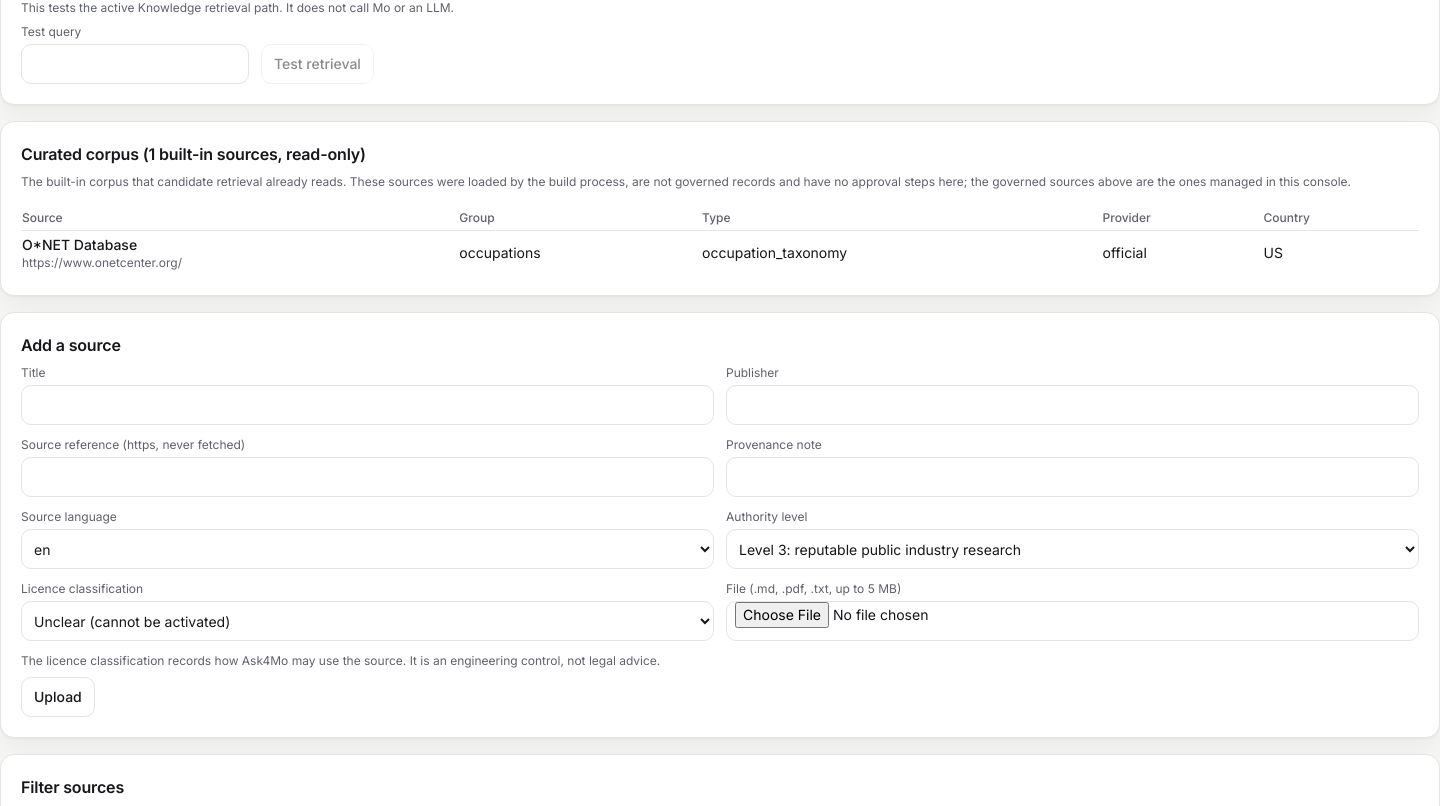
Test: Knowledge list › upload form: labelled fields, file errors associated with the field, no request without a file
(page scrolled)
Type "A source" into the field labelled "Title" at (368, 405), box [21,385,714,425]
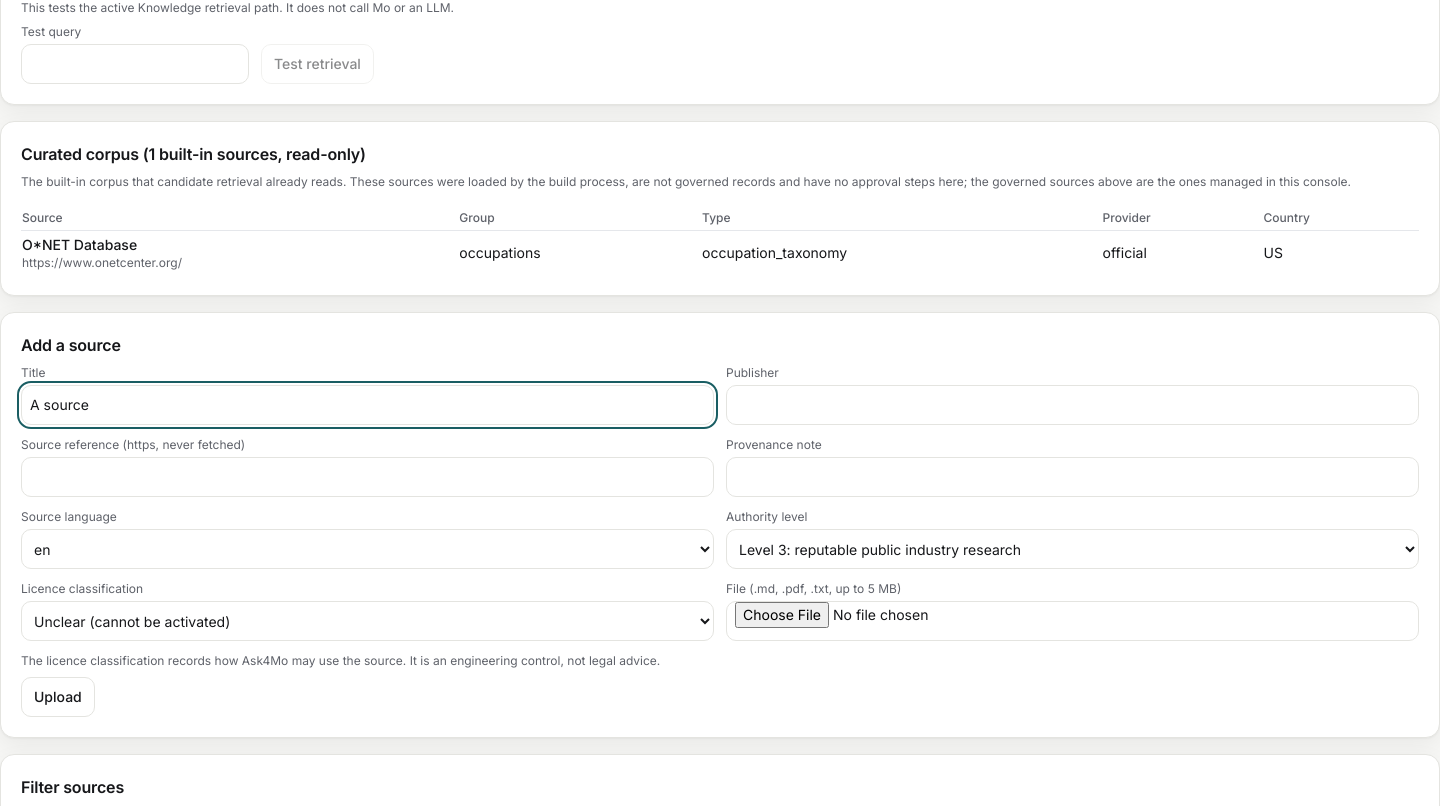
Click the button "Upload" at (58, 697), box [21,677,95,717]
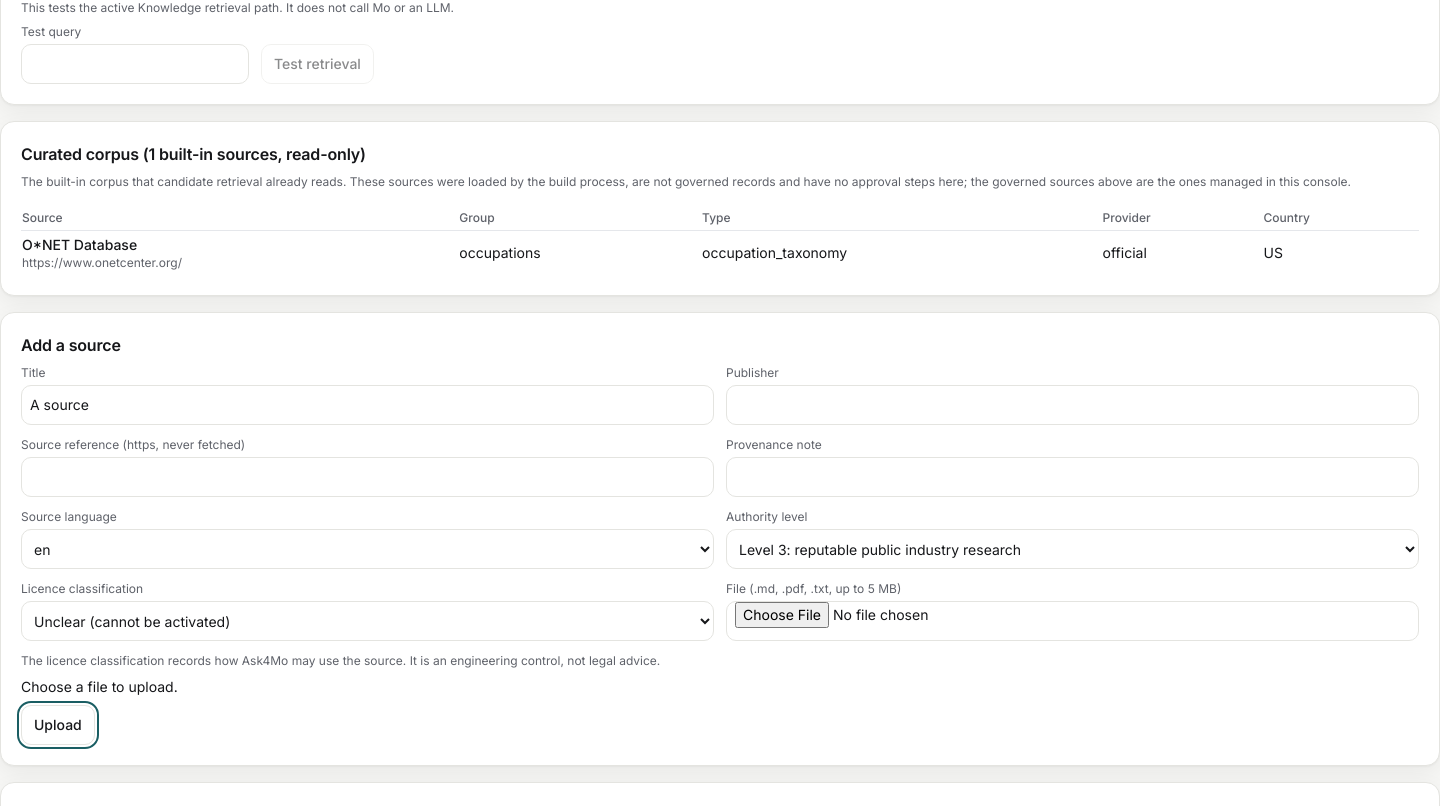
Expected: the dropdown labelled "Licence classification" shows "Unclear (cannot be activated)", [21,601,714,641]
Result: the message shows "Choose a file" at [21,678,178,695]
